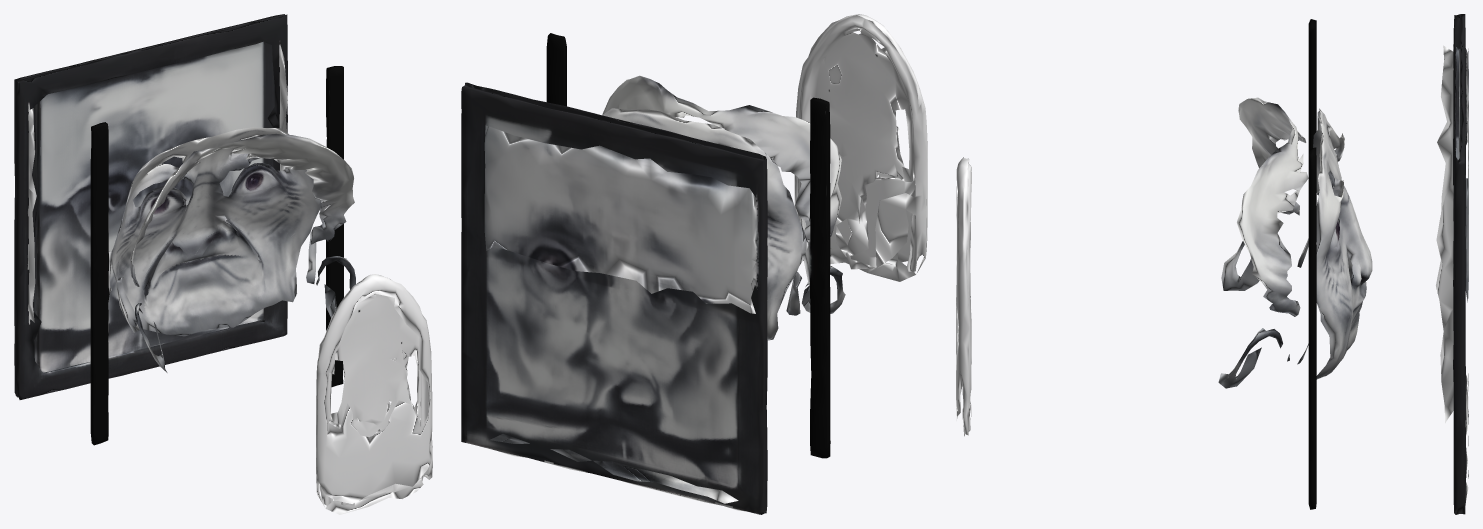
The model's file is crypt_portrait4.glb.
3 renders of one model, left to right at view 1: azimuth 30°, elevation 25°; view 2: azimuth 150°, elevation 25°; view 3: azimuth 270°, elevation 25°, orthographic. The views are drawn at different scales.
Parts seen in each view (by area): view 1: world; view 2: world; view 3: world.
Boxes of the visible parts, <box> form: world: <box>14,14,432,514</box>; world: <box>461,14,927,514</box>; world: <box>956,14,1468,514</box>.
Bounding box in the file's own units: 0.6809 × 0.7753 × 1.
Materials: 1 (1 with a texture image).
